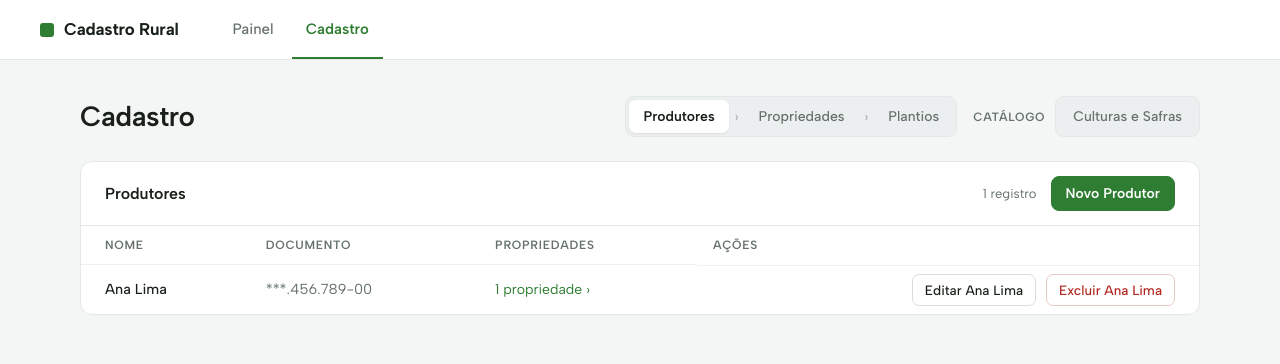
a tela de cadastro › troca de seção pelo menu do cadastro
Expected: the heading "Produtores" is shown, x1=105 y1=182 x2=186 y2=206
Click the link "Culturas e Safras" at (1128, 116), box x1=1073 y1=108 x2=1182 y2=125
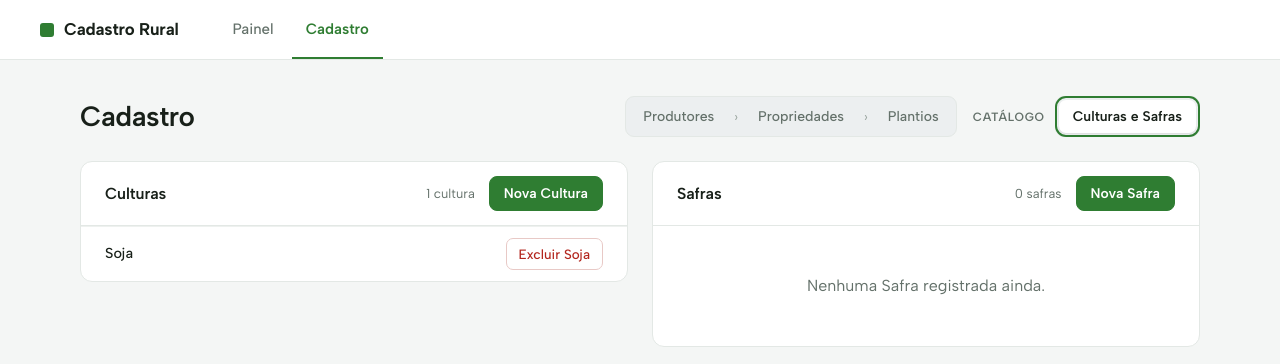
Now the heading "Culturas" is shown, box x1=105 y1=182 x2=166 y2=206
Now the heading "Safras" is shown, box x1=677 y1=182 x2=722 y2=206
